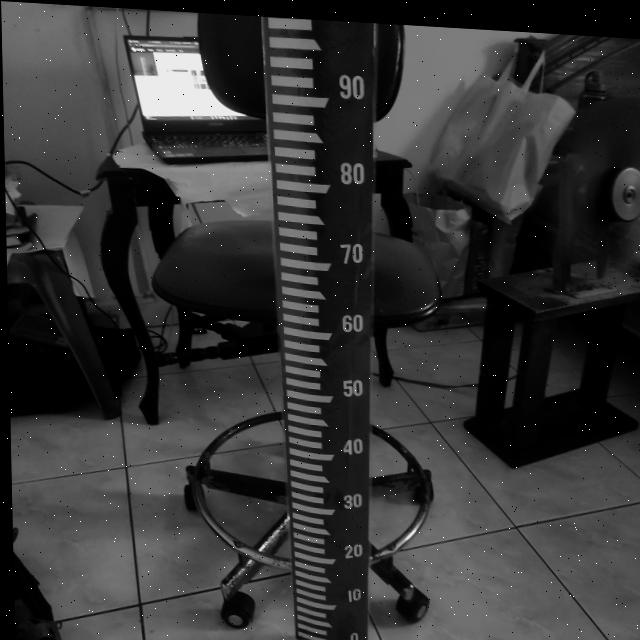water-meter: (248, 15, 382, 640)
